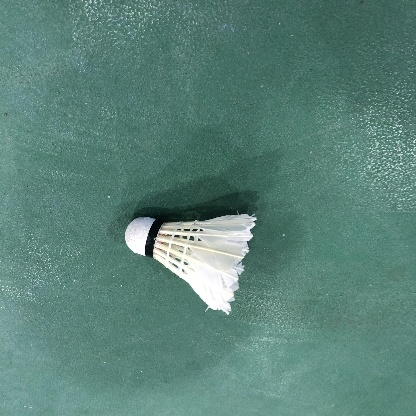ball_single: (125, 214, 257, 316)
